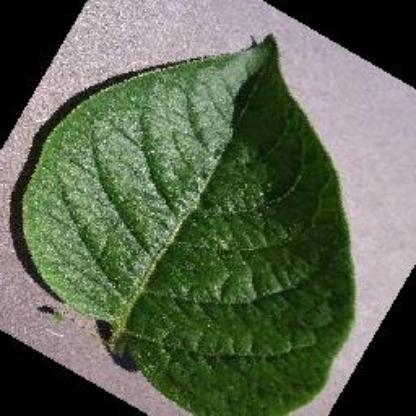Healthy-plant: (16, 29, 356, 415)
